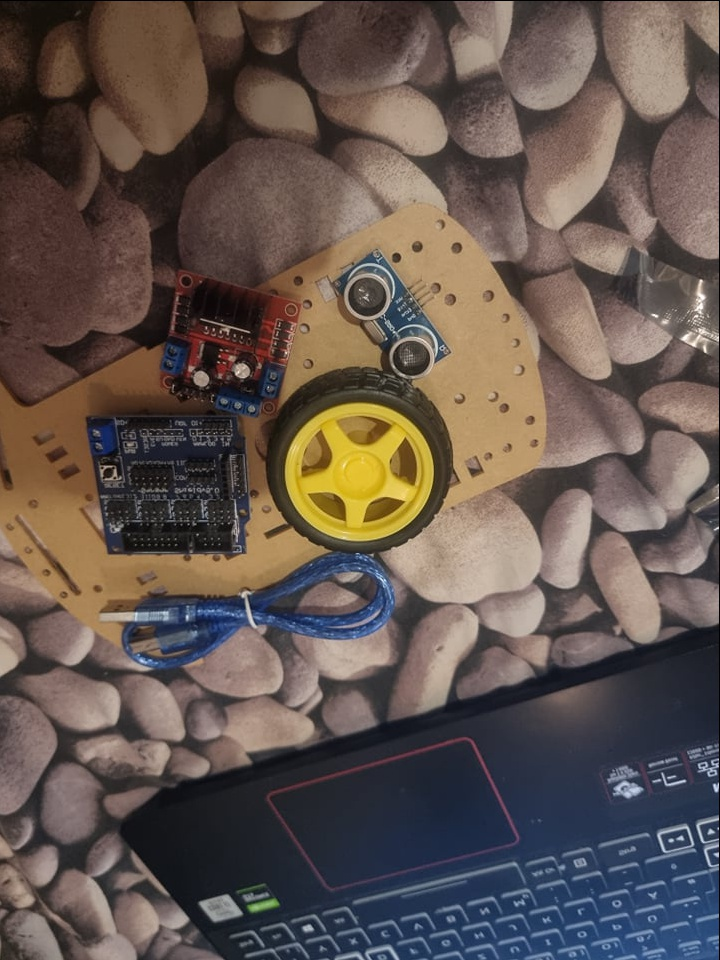5V EXPANSION: (87, 411, 250, 555)
MOTOR: (163, 267, 302, 414)
SENSOR: (335, 259, 446, 377)
